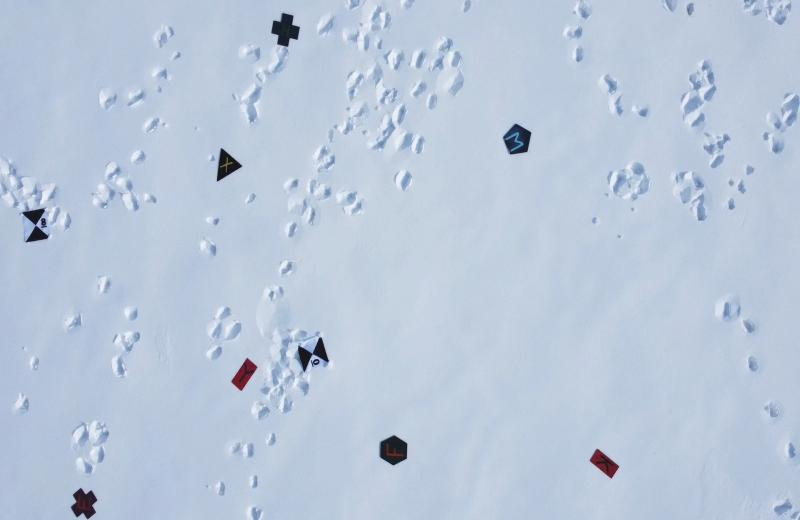Cross: (272, 12, 302, 48), (67, 487, 99, 520)
Hexagon: (380, 436, 410, 466)
Pentagon: (502, 120, 533, 154)
Rectangle: (590, 449, 623, 481), (231, 357, 261, 391)
Triangle: (215, 148, 244, 184)
